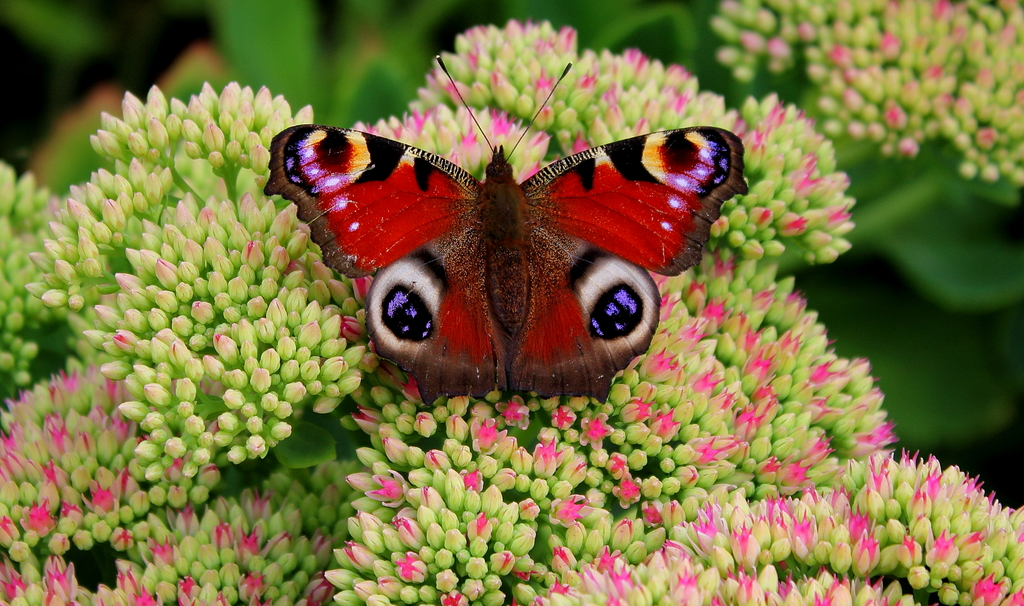Butterfly: (261, 125, 727, 395)
